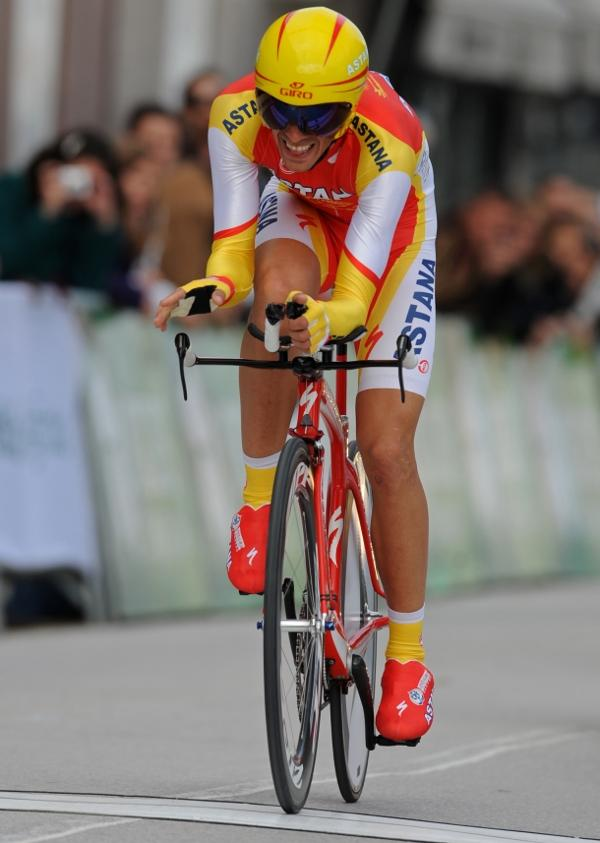person: (157, 7, 437, 744)
